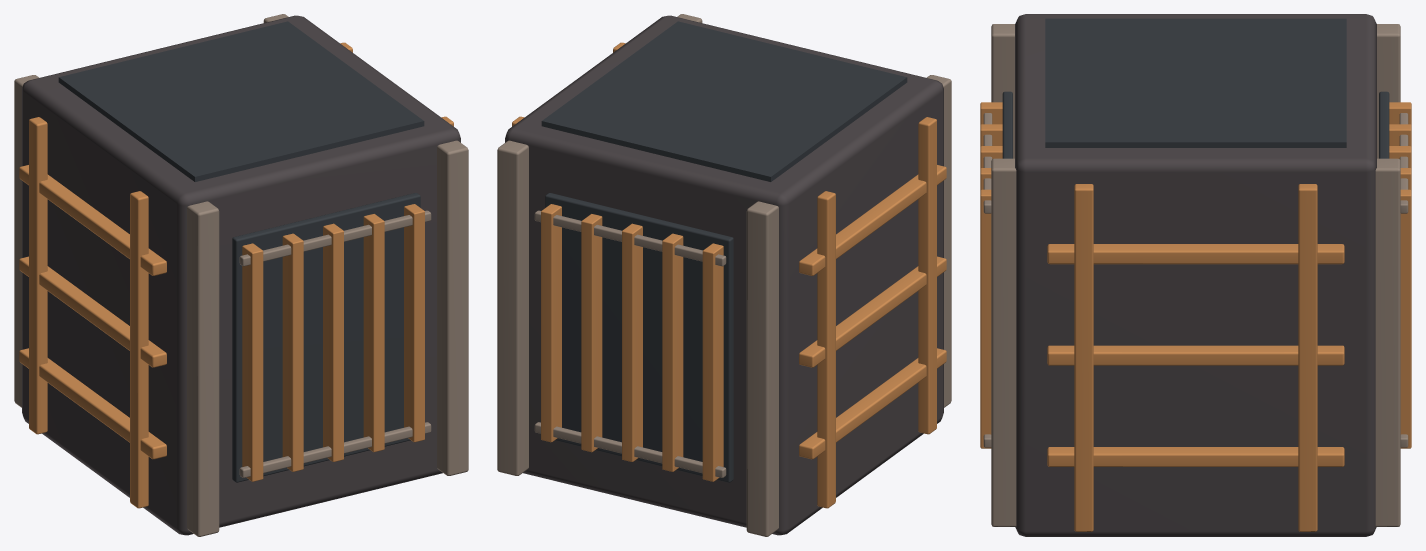
File: uplink-shaft-0.glb
3 renders of one model, left to right at view 1: azimuth 30°, elevation 25°; view 2: azimuth 150°, elevation 25°; view 3: azimuth 270°, elevation 25°, orthographic. The views are drawn at different scales.
Visible parts, largest first — view 1: uplink_0, uplink_2, uplink_3, uplink_1; view 2: uplink_0, uplink_2, uplink_3, uplink_1; view 3: uplink_0, uplink_2, uplink_3, uplink_1.
Part boxes in pixels (left/top/right/bottom): uplink_0: left=22, top=15, right=460, bottom=535; uplink_2: left=58, top=21, right=424, bottom=482; uplink_3: left=19, top=42, right=453, bottom=508; uplink_1: left=14, top=14, right=468, bottom=536; uplink_0: left=505, top=15, right=943, bottom=535; uplink_2: left=541, top=21, right=907, bottom=482; uplink_3: left=512, top=42, right=946, bottom=508; uplink_1: left=497, top=14, right=951, bottom=536; uplink_0: left=1015, top=14, right=1376, bottom=536; uplink_2: left=1002, top=18, right=1389, bottom=158; uplink_3: left=980, top=102, right=1411, bottom=531; uplink_1: left=983, top=24, right=1408, bottom=526.
Size of the model in its own units: 0.94 by 1 by 1.
